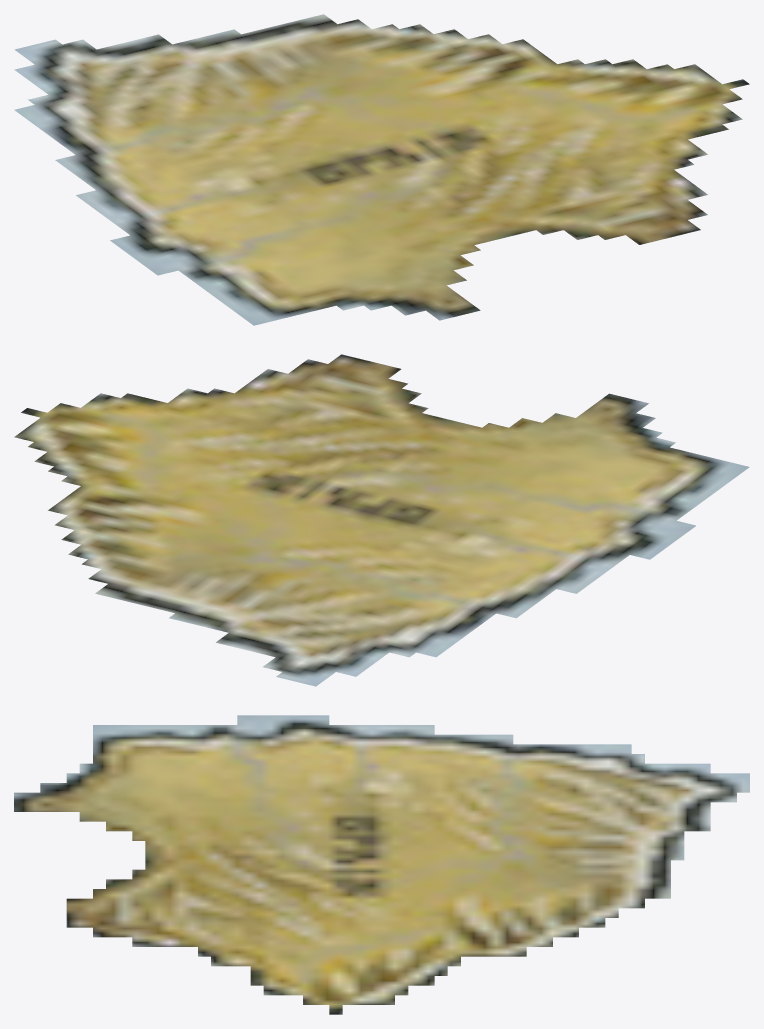
File: spain.gltf
3 renders of one model, top to bottom at view 1: azimuth 30°, elevation 25°; view 2: azimuth 150°, elevation 25°; view 3: azimuth 270°, elevation 25°, orthographic. The views are drawn at different scales.
Visible parts, largest first — view 1: Plane; view 2: Plane; view 3: Plane.
Part boxes in pixels (x1,y1,x2,y2): Plane: (14,14,749,325); Plane: (14,354,749,686); Plane: (14,715,749,1014).
Size of the model in its own units: 0.3061 by 0 by 0.318.
Materials: 1 (1 with a texture image).
